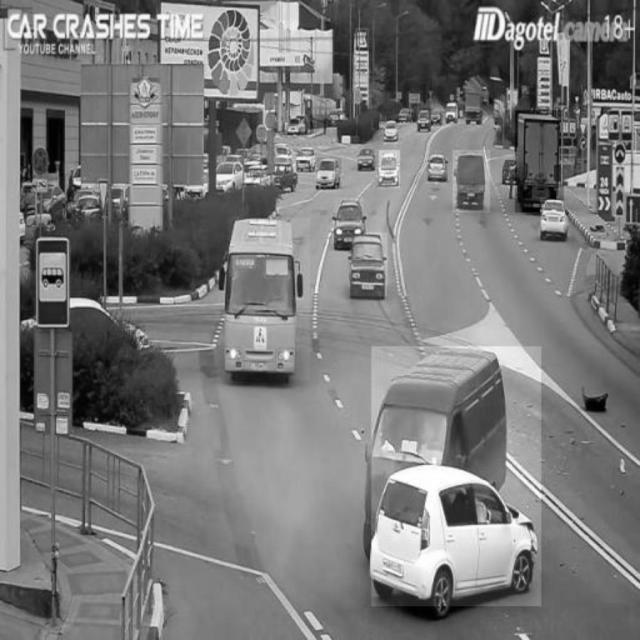accident: (372, 347, 542, 607)
vehicle: (228, 217, 310, 381), (515, 110, 563, 213), (351, 233, 388, 297), (453, 151, 490, 213), (335, 197, 363, 248), (540, 200, 570, 242), (316, 158, 341, 188), (379, 150, 399, 187)
